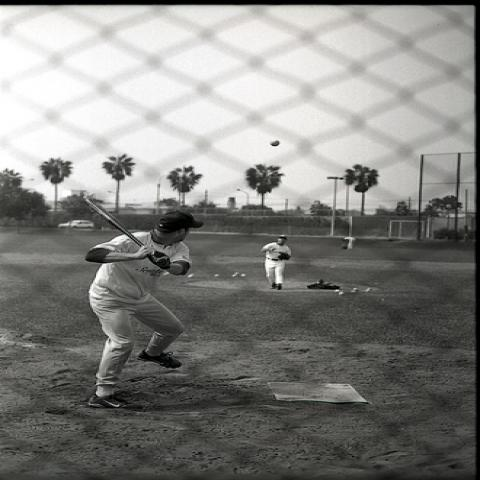car: (58, 220, 95, 230)
